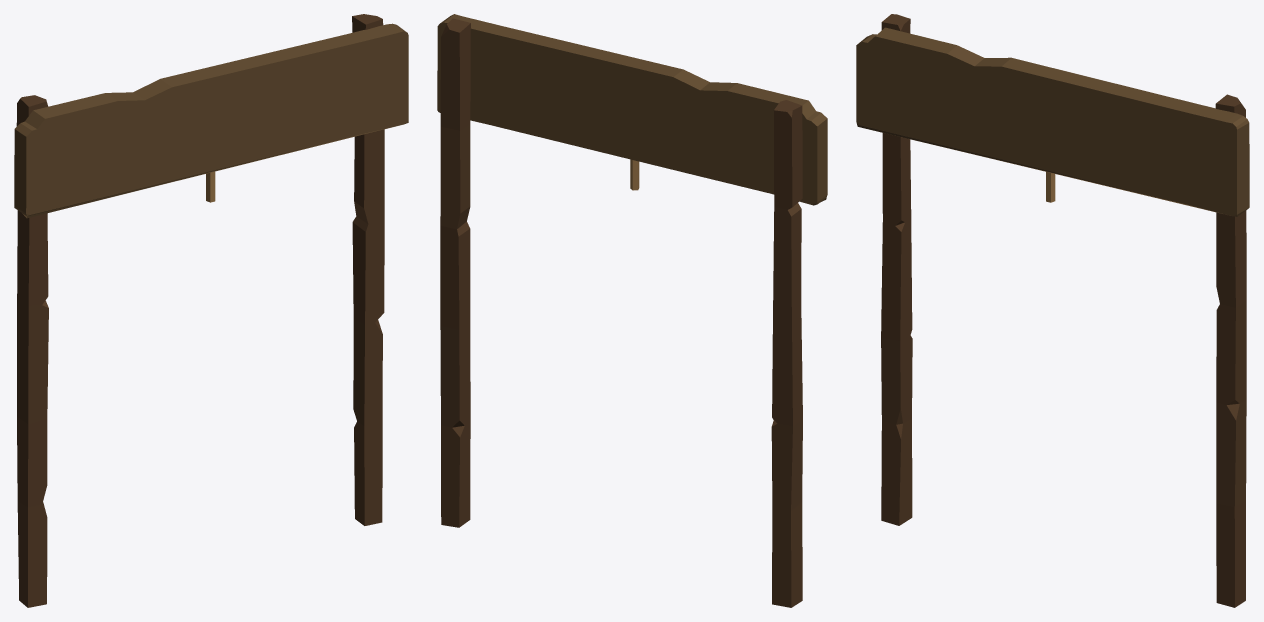
File: TargetFrame.fbx
The picture shows the model from 3 angles, left to right: view 1: azimuth 30°, elevation 25°; view 2: azimuth 150°, elevation 25°; view 3: azimuth 330°, elevation 25°; orthographic projection.
Visible parts, largest first — view 1: TargetFrame; view 2: TargetFrame; view 3: TargetFrame.
Boxes of the visible parts, x1,y1,x2,y2 form: TargetFrame: (14, 14, 408, 607); TargetFrame: (437, 14, 827, 607); TargetFrame: (856, 14, 1249, 607).
Bounding box in the file's own units: 200 × 251 × 21.36.
